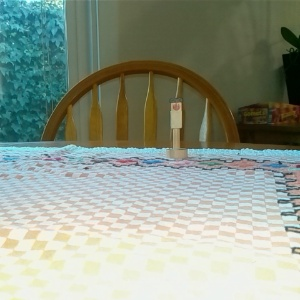traffic light red: (164, 96, 189, 161)
